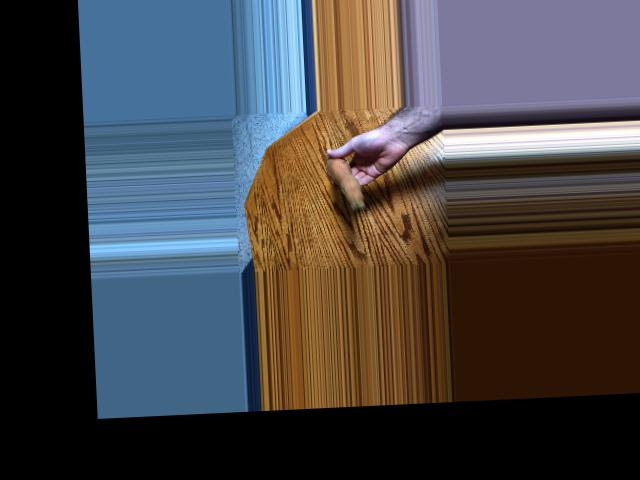sweet_potato: (325, 150, 368, 211)
